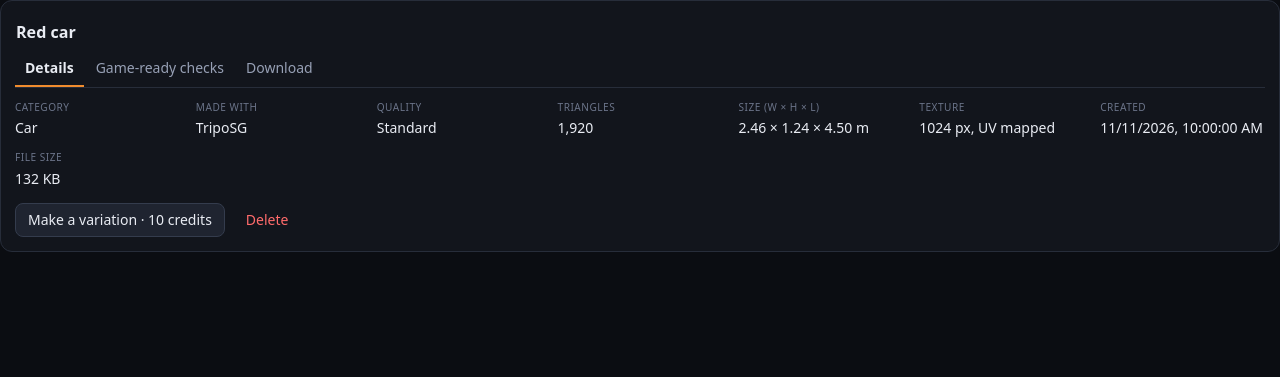
AssetPanel › summarises the game-readiness checks and reveals the issues on request
This screenshot has width=1280, height=377.
Step 1. Click the tab "Game-ready checks" → (160, 69), box [86, 51, 234, 87]
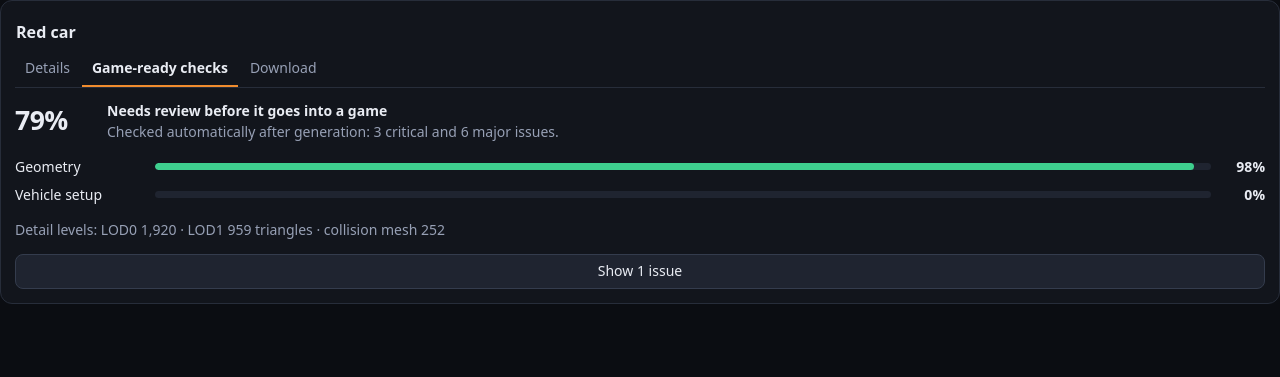
expect the text "79%" is shown: met, box [15, 102, 68, 138]
expect the text "Needs review before it goes into a game" is shown: met, box [107, 101, 387, 120]
expect the text "LOD0 1,920 · LOD1 959 triangles · collision mesh 252" is shown: met, box [15, 220, 445, 239]
Step 2. Click the button "Show 1 issue" → (640, 271), box [15, 254, 1265, 288]
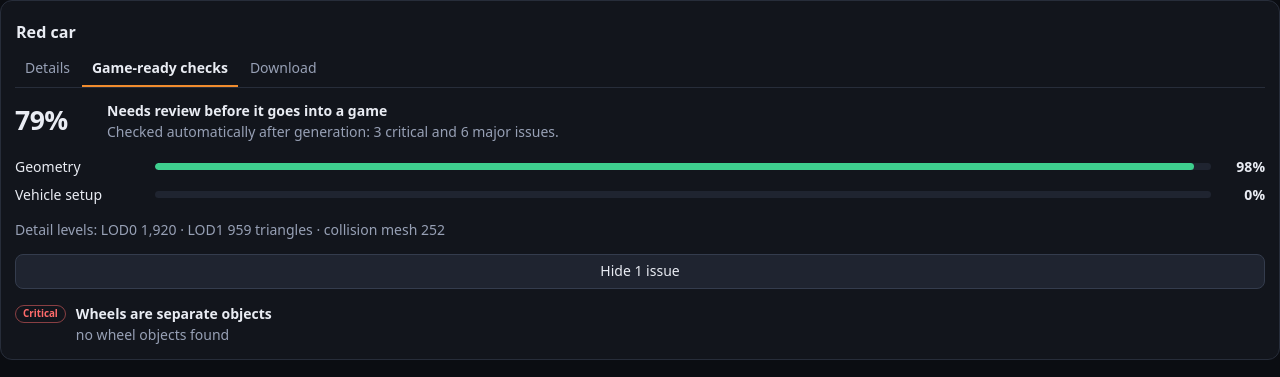
expect the text "Wheels are separate objects" is shown: met, box [76, 304, 272, 322]
